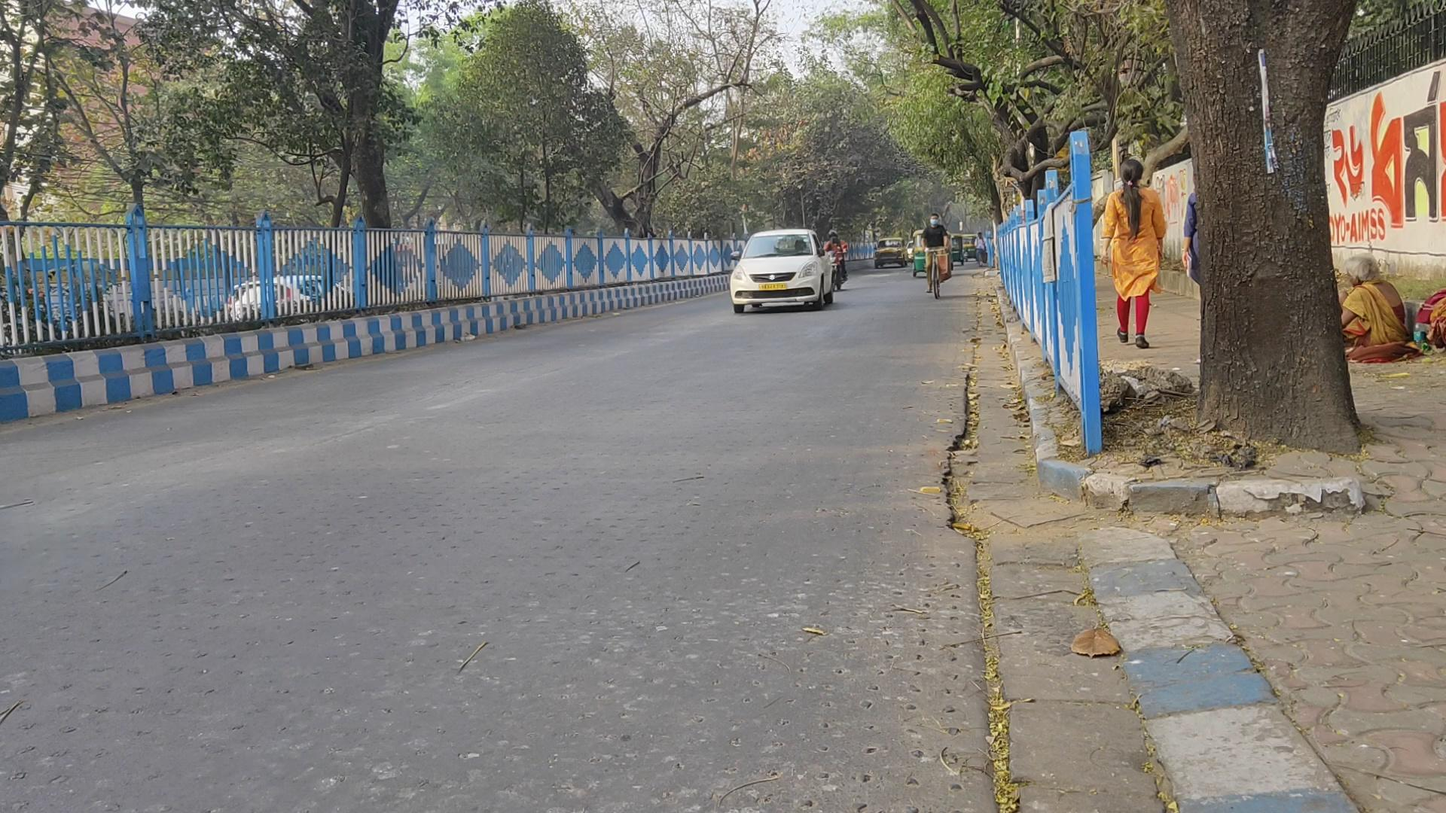Auto: (912, 228, 953, 277), (950, 233, 966, 267), (964, 233, 980, 262)
bike: (823, 230, 849, 292), (975, 232, 987, 267)
car: (728, 227, 833, 314), (874, 236, 909, 270)
